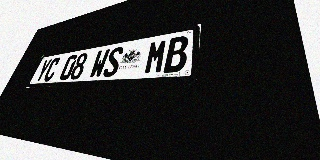0: (58, 54, 79, 81)
8: (68, 52, 90, 80)
B: (163, 35, 189, 73)
C: (42, 57, 61, 82)
M: (143, 39, 168, 74)
S: (102, 46, 125, 77)
W: (88, 49, 110, 78)
Y: (34, 59, 53, 82)
